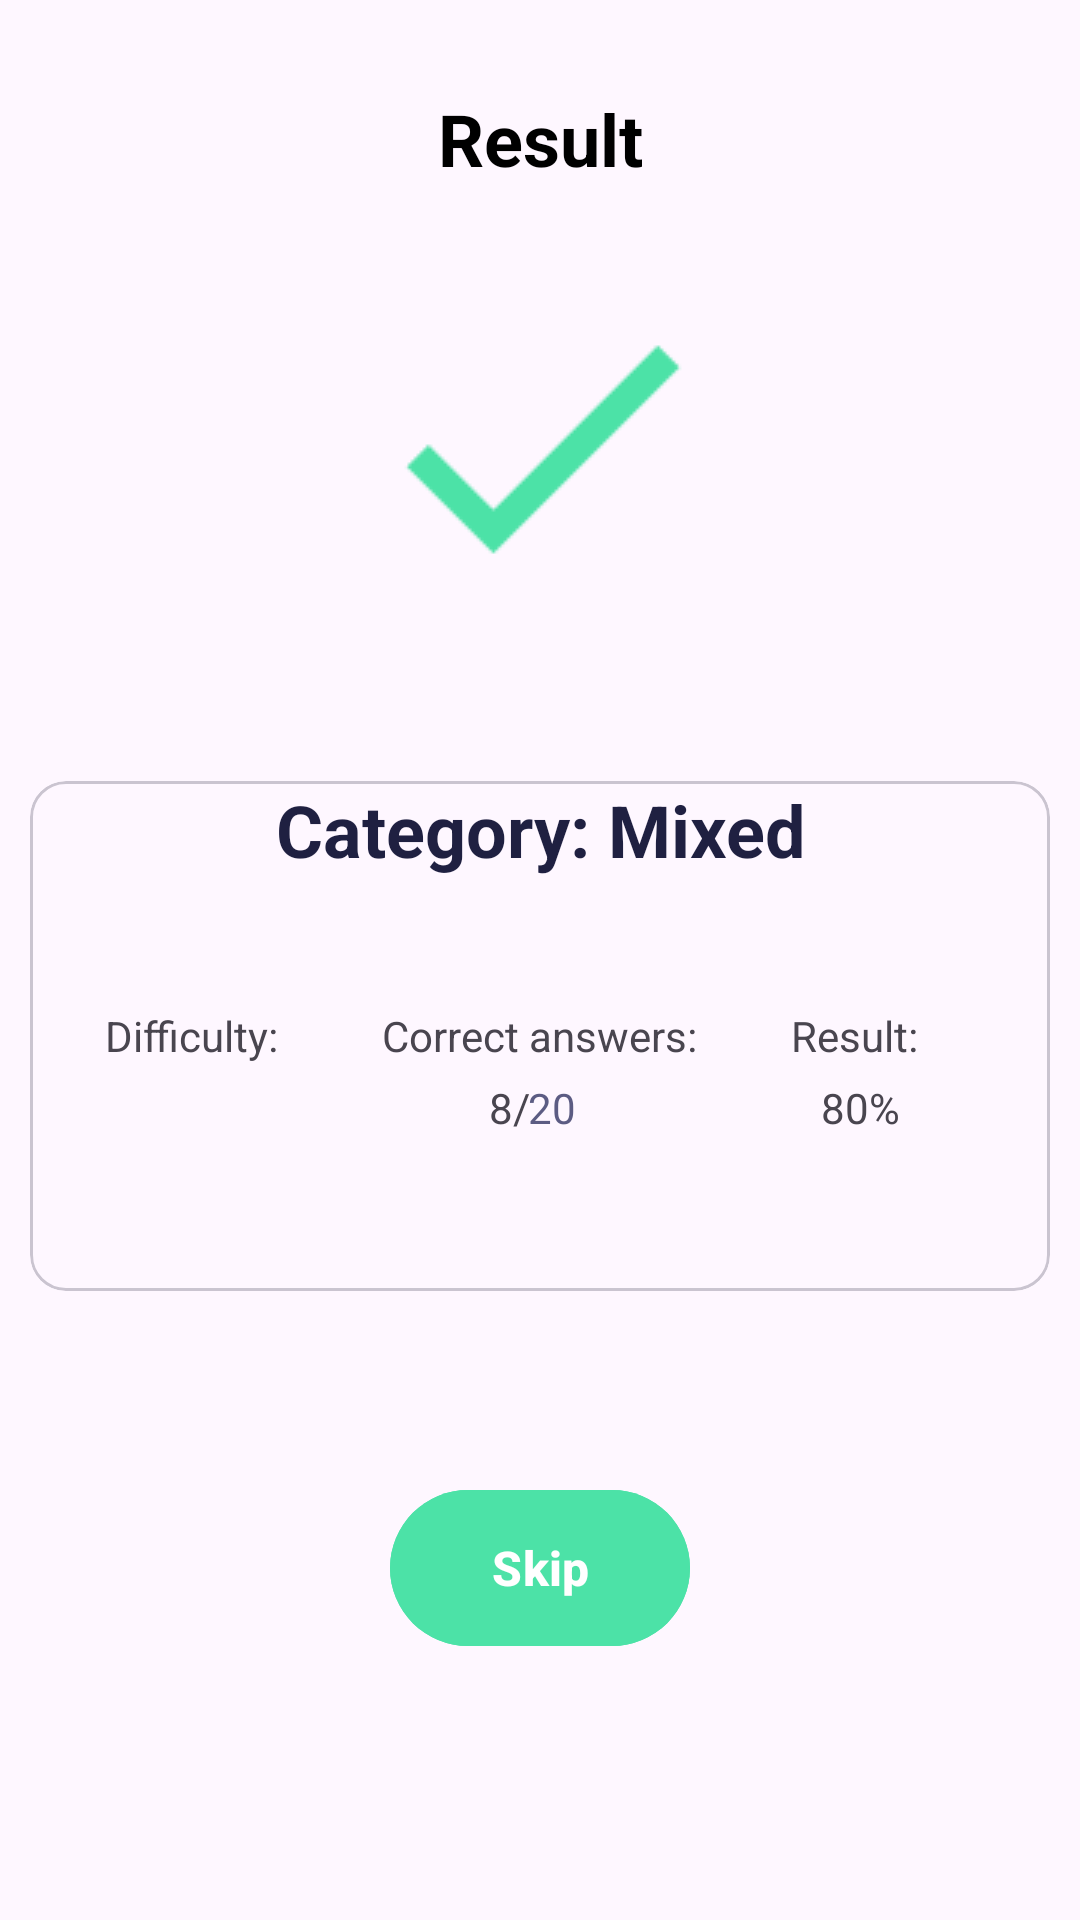

Where to tap for icons on this 1080x1920 app screen, as (x,y):
done: (543,449)
